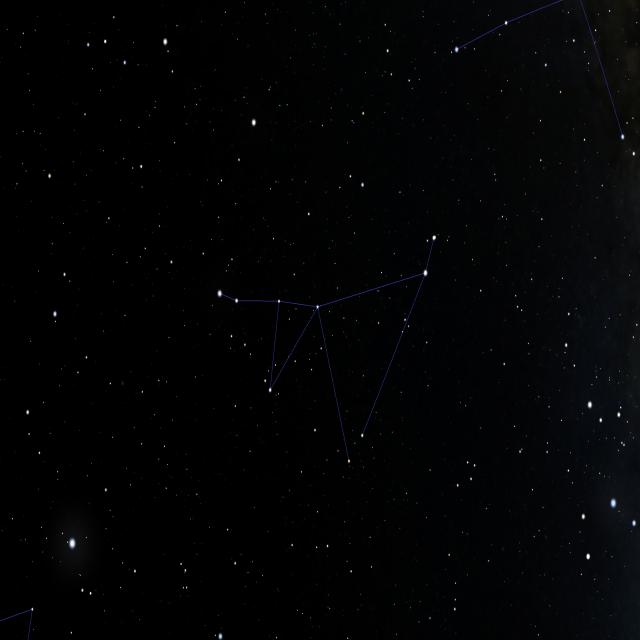Capricornus: (209, 229, 449, 471)
